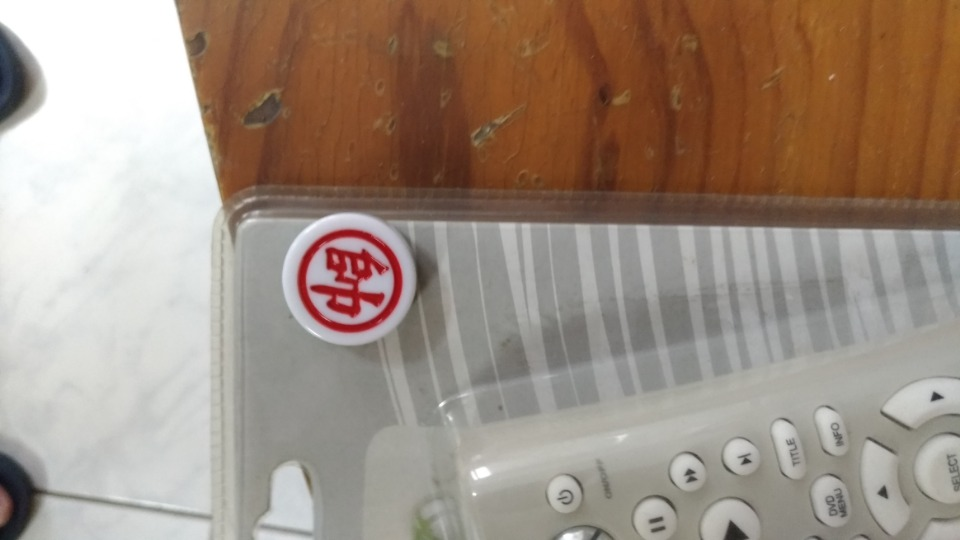r-king: (267, 208, 419, 351)
